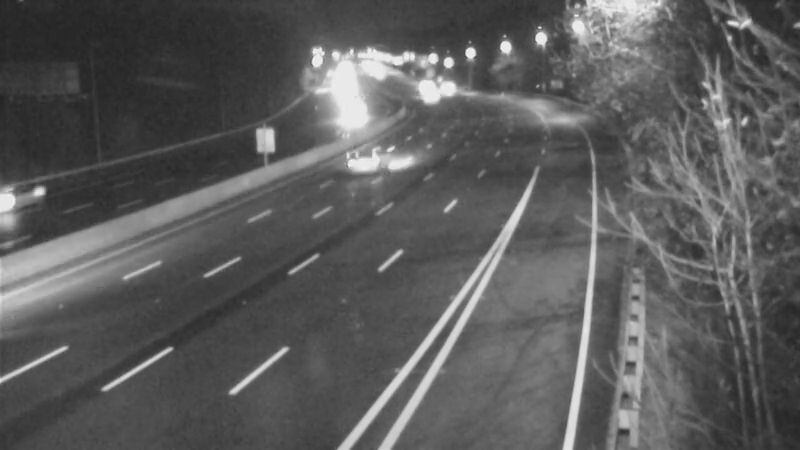vehicle: (332, 124, 412, 204), (1, 159, 67, 239)
